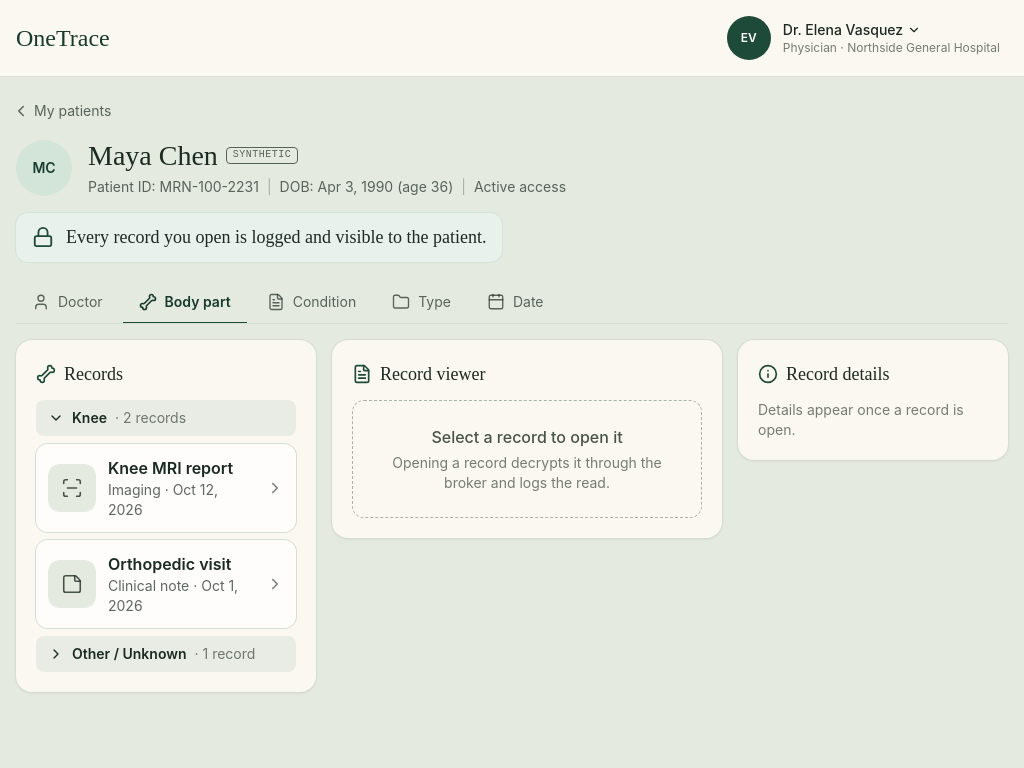
Test: Patient records (mockup page 3, screen 3) › opens a record: decrypted text, details table, pager, status strip and the selected row
Click the link "Knee MRI report Imaging · Oct 12, 2026".
click(166, 488)  # box left=36, top=444, right=296, bottom=532
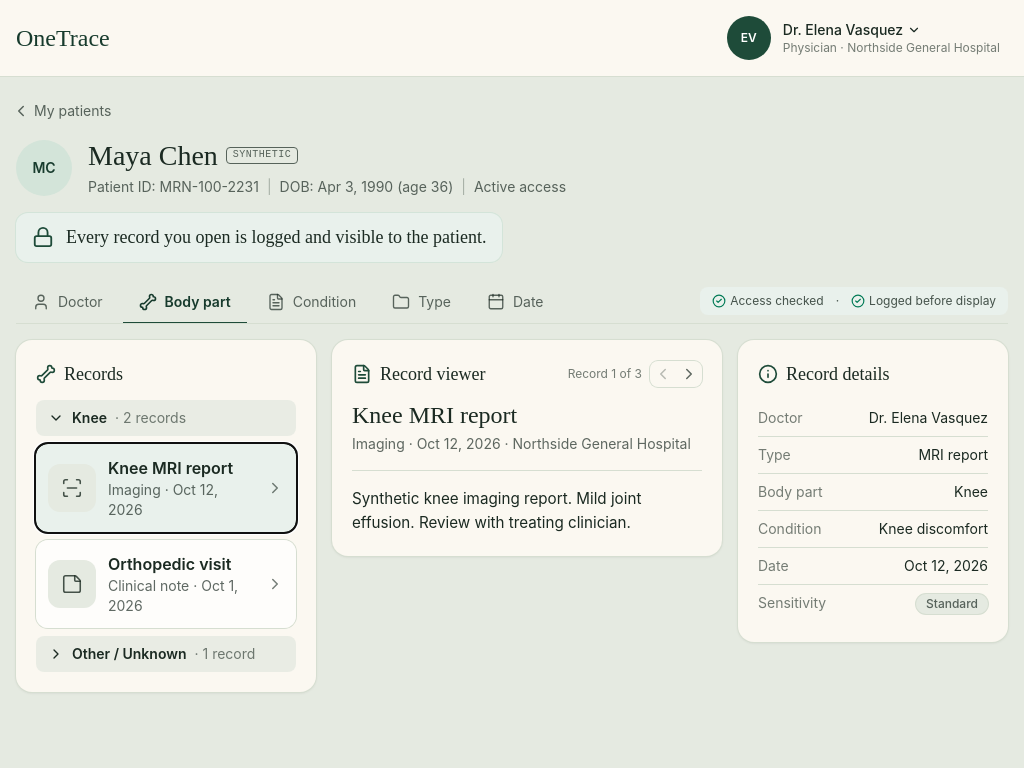
Expected: the text "Synthetic knee imaging report. Mild joint effusion. Review with treating clinician." is shown, left=352, top=489, right=646, bottom=532
Expected: the heading "Knee MRI report" is shown, left=352, top=402, right=517, bottom=428
Expected: the text "Imaging · Oct 12, 2026 · Northside General Hospital" is shown, left=352, top=434, right=702, bottom=454
